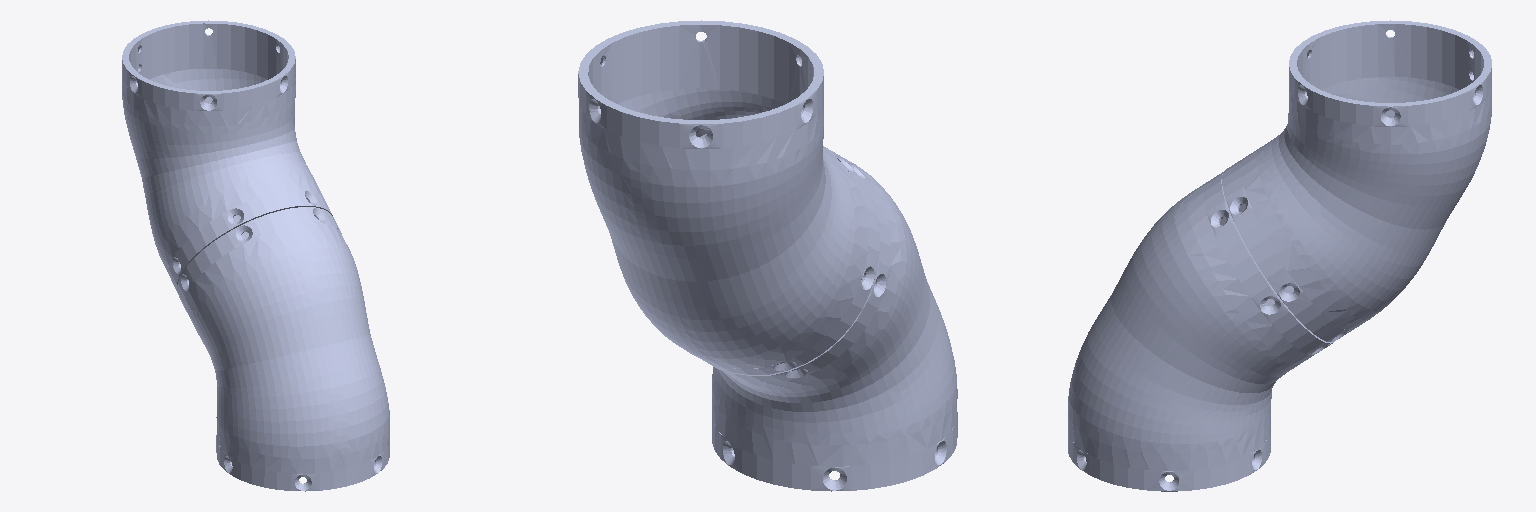
robot.urdf — jaco:
<?xml version="1.0" ?>
<!-- =================================================================================== -->
<!-- |    This document was autogenerated by xacro from jaco_description/robots/standalone_arm.urdf.xacro | -->
<!-- |    EDITING THIS FILE BY HAND IS NOT RECOMMENDED                                 | -->
<!-- =================================================================================== -->
<robot name="jaco" xmlns:body="http://playerstage.sourceforge.net/gazebo/xmlschema/#body" xmlns:controller="http://playerstage.sourceforge.net/gazebo/xmlschema/#controller" xmlns:gazebo="http://playerstage.sourceforge.net/gazebo/xmlschema/#gz" xmlns:geom="http://playerstage.sourceforge.net/gazebo/xmlschema/#geom" xmlns:interface="http://playerstage.sourceforge.net/gazebo/xmlschema/#interface" xmlns:joint="http://playerstage.sourceforge.net/gazebo/xmlschema/#joint" xmlns:model="http://playerstage.sourceforge.net/gazebo/xmlschema/#model" xmlns:physics="http://playerstage.sourceforge.net/gazebo/xmlschema/#physics" xmlns:renderable="http://playerstage.sourceforge.net/gazebo/xmlschema/#renderable" xmlns:rendering="http://playerstage.sourceforge.net/gazebo/xmlschema/#rendering" xmlns:sensor="http://playerstage.sourceforge.net/gazebo/xmlschema/#sensor" xmlns:xacro="http://ros.org/wiki/xacro" xmlns:xi="http://www.w3.org/2001/XInclude">
    <mujoco>
        <compiler meshdir="../meshes/"/>
    </mujoco>
  <link name="jaco_link_base">
    <inertial>
      <mass value="1.0"/>
      <inertia ixx="0.1" ixy="0" ixz="0" iyy="0.1" iyz="0" izz="0.1"/>
      <origin/>
    </inertial>
    <visual>
      <geometry>
        <mesh filename="package://jaco_description/meshes/jaco_link_base.min.dae" scale="0.0254 0.0254 0.0254"/>
      </geometry>
      <material name="carbon_fiber">
        <color rgba="0.792156862745098 0.819607843137255 0.933333333333333 1"/>
      </material>
    </visual>
    <collision>
      <geometry>
        <mesh filename="package://jaco_description/meshes/jaco_link_base.stl" scale="0.0254 0.0254 0.0254"/>
      </geometry>
    </collision>
  </link>
  <link name="jaco_link_1">
    <inertial>
      <mass value="1.0"/>
      <inertia ixx="0.1" ixy="0" ixz="0" iyy="0.1" iyz="0" izz="0.1"/>
      <origin/>
    </inertial>
    <visual>
      <geometry>
        <mesh filename="package://jaco_description/meshes/jaco_link_1.min.dae" scale="0.0254 0.0254 0.0254"/>
      </geometry>
      <material name="carbon_fiber">
        <color rgba="0.792156862745098 0.819607843137255 0.933333333333333 1"/>
      </material>
    </visual>
    <collision>
      <geometry>
        <mesh filename="package://jaco_description/meshes/jaco_link_1.stl" scale="0.0254 0.0254 0.0254"/>
      </geometry>
    </collision>
  </link>
  <joint name="jaco_joint_1" type="revolute">
    <parent link="jaco_link_base"/>
    <child link="jaco_link_1"/>
    <axis xyz="0 0 1"/>
    <origin rpy="3.141592653589793 0 0" xyz="0 0 0.1535"/>
    <limit effort="30" lower="-6.283185307179586" upper="6.283185307179586" velocity="5"/>
  </joint>
  <link name="jaco_link_2">
    <inertial>
      <mass value="1.0"/>
      <inertia ixx="0.1" ixy="0" ixz="0" iyy="0.1" iyz="0" izz="0.1"/>
      <origin/>
    </inertial>
    <visual>
      <geometry>
        <mesh filename="package://jaco_description/meshes/jaco_link_2.min.dae" scale="0.0254 0.0254 0.0254"/>
      </geometry>
      <material name="carbon_fiber">
        <color rgba="0.792156862745098 0.819607843137255 0.933333333333333 1"/>
      </material>
    </visual>
    <collision>
      <geometry>
        <mesh filename="package://jaco_description/meshes/jaco_link_2.stl" scale="0.0254 0.0254 0.0254"/>
      </geometry>
    </collision>
  </link>
  <joint name="jaco_joint_2" type="revolute">
    <parent link="jaco_link_1"/>
    <child link="jaco_link_2"/>
    <axis xyz="0 0 1"/>
    <origin rpy="-1.5707963267948966 -1.5707963267948966 0" xyz="0 0 -0.1185"/>
    <limit effort="30" lower="0" upper="6.283185307179586" velocity="5"/>
  </joint>
  <link name="jaco_link_3">
    <inertial>
      <mass value="1.0"/>
      <inertia ixx="0.1" ixy="0" ixz="0" iyy="0.1" iyz="0" izz="0.1"/>
      <origin/>
    </inertial>
    <visual>
      <geometry>
        <mesh filename="package://jaco_description/meshes/jaco_link_3.min.dae" scale="0.0254 0.0254 0.0254"/>
      </geometry>
      <material name="carbon_fiber">
        <color rgba="0.792156862745098 0.819607843137255 0.933333333333333 1"/>
      </material>
    </visual>
    <collision>
      <geometry>
        <mesh filename="package://jaco_description/meshes/jaco_link_3.stl" scale="0.0254 0.0254 0.0254"/>
      </geometry>
    </collision>
  </link>
  <joint name="jaco_joint_3" type="revolute">
    <parent link="jaco_link_2"/>
    <child link="jaco_link_3"/>
    <axis xyz="0 0 1"/>
    <origin rpy="3.141592653589793 0 3.141592653589793" xyz="0.41 0 0"/>
    <limit effort="30" lower="0" upper="6.283185307179586" velocity="5"/>
  </joint>
  <link name="jaco_link_4">
    <inertial>
      <mass value="0.5"/>
      <inertia ixx="0.1" ixy="0" ixz="0" iyy="0.1" iyz="0" izz="0.1"/>
      <origin/>
    </inertial>
    <visual>
      <geometry>
        <mesh filename="package://jaco_description/meshes/jaco_link_4_5.min.dae" scale="0.0254 0.0254 0.0254"/>
      </geometry>
      <material name="carbon_fiber">
        <color rgba="0.792156862745098 0.819607843137255 0.933333333333333 1"/>
      </material>
    </visual>
    <collision>
      <geometry>
        <mesh filename="package://jaco_description/meshes/jaco_link_4_5.stl" scale="0.0254 0.0254 0.0254"/>
      </geometry>
    </collision>
  </link>
  <joint name="jaco_joint_4" type="revolute">
    <parent link="jaco_link_3"/>
    <child link="jaco_link_4"/>
    <axis xyz="0 0 1"/>
    <origin rpy="0 -1.5707963267948966 0" xyz="0.207 0 -0.01125"/>
    <limit effort="30" lower="-6.283185307179586" upper="6.283185307179586" velocity="5"/>
  </joint>
  <link name="jaco_link_5">
    <inertial>
      <mass value="0.5"/>
      <inertia ixx="0.1" ixy="0" ixz="0" iyy="0.1" iyz="0" izz="0.1"/>
      <origin/>
    </inertial>
    <visual>
      <geometry>
        <mesh filename="package://jaco_description/meshes/jaco_link_4_5.min.dae" scale="0.0254 0.0254 0.0254"/>
      </geometry>
      <material name="carbon_fiber">
        <color rgba="0.792156862745098 0.819607843137255 0.933333333333333 1"/>
      </material>
    </visual>
    <collision>
      <geometry>
        <mesh filename="package://jaco_description/meshes/jaco_link_4_5.stl" scale="0.0254 0.0254 0.0254"/>
      </geometry>
    </collision>
  </link>
  <joint name="jaco_joint_5" type="revolute">
    <parent link="jaco_link_4"/>
    <child link="jaco_link_5"/>
    <axis xyz="0 0 1"/>
    <origin rpy="0 0.9599310885968813 3.141592653589793" xyz="0.0343 0 -0.06588"/>
    <limit effort="30" lower="-6.283185307179586" upper="6.283185307179586" velocity="5"/>
  </joint>
  <link name="jaco_link_hand">
    <inertial>
      <mass value="1.0"/>
      <inertia ixx="0.1" ixy="0" ixz="0" iyy="0.1" iyz="0" izz="0.1"/>
      <origin/>
    </inertial>
    <visual>
      <geometry>
        <mesh filename="package://jaco_description/meshes/jaco_link_hand.min.dae" scale="0.0254 0.0254 0.0254"/>
      </geometry>
      <material name="carbon_fiber">
        <color rgba="0.792156862745098 0.819607843137255 0.933333333333333 1"/>
      </material>
    </visual>
    <collision>
      <geometry>
        <mesh filename="package://jaco_description/meshes/jaco_link_hand.stl" scale="0.0254 0.0254 0.0254"/>
      </geometry>
    </collision>
  </link>
  <joint name="jaco_joint_6" type="revolute">
    <parent link="jaco_link_5"/>
    <child link="jaco_link_hand"/>
    <axis xyz="0 0 1"/>
    <origin rpy="0 0.9599310885968813 3.141592653589793" xyz="0.0343 0 -0.06588"/>
    <limit effort="30" lower="-6.283185307179586" upper="6.283185307179586" velocity="5"/>
  </joint>
</robot>

--- Render facts (derived) ---
3 views of the same robot in one strip: view 1: azimuth 30°, elevation 25°; view 2: azimuth 150°, elevation 25°; view 3: azimuth 270°, elevation 25° (orthographic).
Robot: jaco — 7 links, 6 joints (6 revolute); root link jaco_link_base; default pose: every joint at zero.
Links seen in each view (by area): view 1: jaco_link_4, jaco_link_5; view 2: jaco_link_5, jaco_link_4; view 3: jaco_link_5, jaco_link_4.
Boxes of the visible links, x1,y1,x2,y2 form: jaco_link_4: (177,207,389,491); jaco_link_5: (122,20,332,292); jaco_link_5: (578,20,879,374); jaco_link_4: (703,154,957,491); jaco_link_5: (1222,20,1491,341); jaco_link_4: (1068,172,1334,491).
Bounding box of the posed robot: 0.063 × 0.1314 × 0.1314 m (x, y, z).
Meshes: 6 distinct files referenced, 2 mesh visuals loaded (1 Collada DAE); not drawn: 5 (file found but could not be loaded).